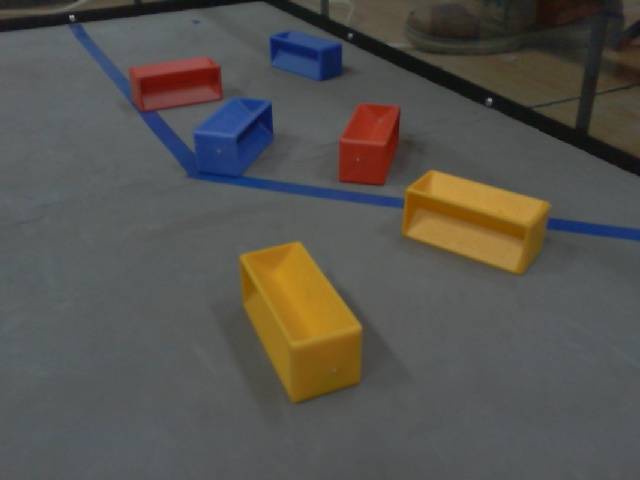BlueSample: (192, 96, 278, 179), (268, 25, 344, 85)
RedSample: (335, 101, 402, 187), (124, 54, 226, 109)
YellowSample: (231, 236, 371, 403), (393, 168, 553, 277)
